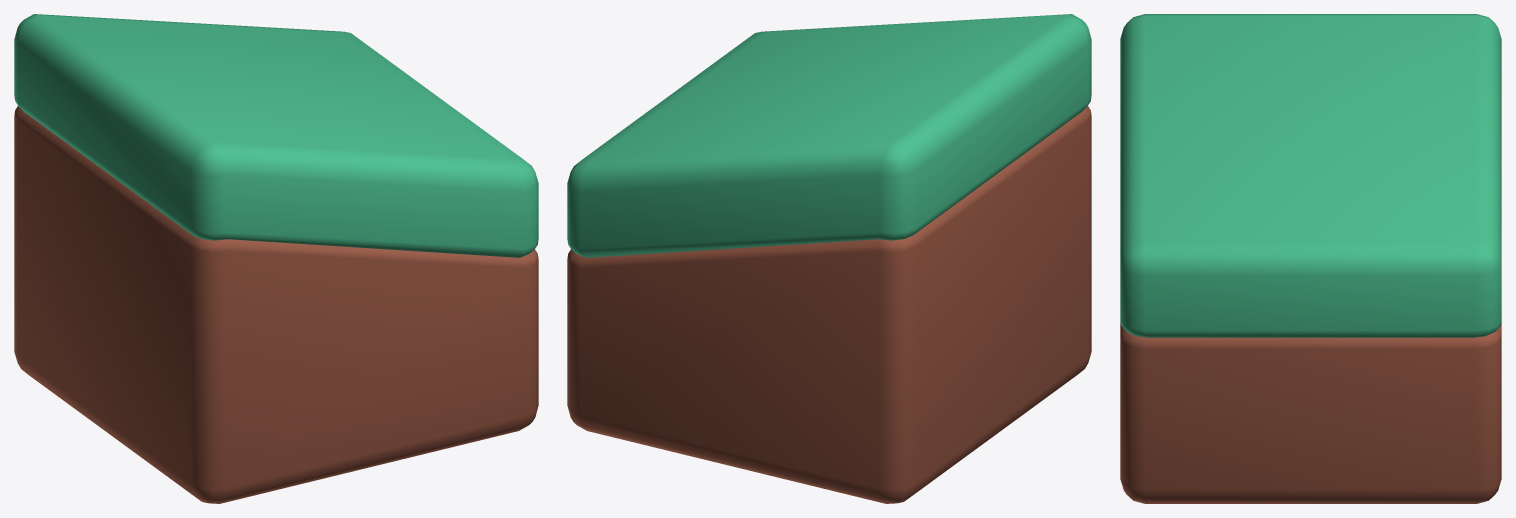
The model's file is tileSlopeMediumHigh_forest.glb.
3 renders of one model, left to right at view 1: azimuth 30°, elevation 25°; view 2: azimuth 150°, elevation 25°; view 3: azimuth 270°, elevation 25°, orthographic. The views are drawn at different scales.
Parts seen in each view (by area): view 1: tileSlopeMediumHigh_forest; view 2: tileSlopeMediumHigh_forest; view 3: tileSlopeMediumHigh_forest.
Boxes of the visible parts, left/top/right/bottom form: tileSlopeMediumHigh_forest: left=14, top=14, right=538, bottom=503; tileSlopeMediumHigh_forest: left=567, top=14, right=1091, bottom=503; tileSlopeMediumHigh_forest: left=1120, top=14, right=1501, bottom=503.
Size of the model in its own units: 2 by 2 by 2.
